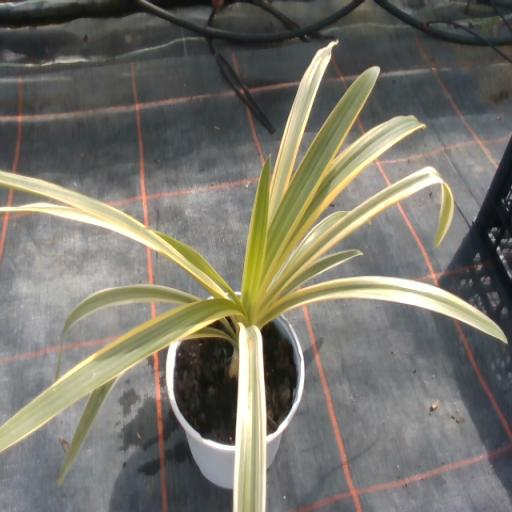Agapanthus-praecox: (0, 299, 240, 451), (0, 170, 219, 293), (264, 68, 378, 276), (282, 167, 445, 285), (264, 277, 507, 341), (303, 115, 424, 228), (57, 285, 198, 374), (269, 43, 336, 225), (0, 203, 158, 250), (59, 377, 118, 483), (270, 211, 348, 290), (234, 324, 266, 511), (149, 229, 227, 292), (242, 158, 269, 322), (285, 250, 362, 292), (436, 188, 454, 245), (184, 327, 231, 340)
